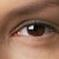eye: (27, 25, 45, 36)
